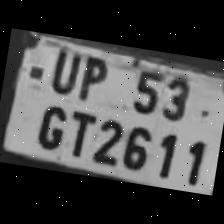1: (175, 131, 210, 188), (148, 126, 183, 180)
2: (87, 113, 124, 168)
3: (156, 68, 193, 122)
5: (126, 64, 164, 116)
6: (116, 119, 154, 174)
G: (32, 98, 70, 152)
P: (71, 50, 111, 105)
T: (61, 106, 96, 160)
U: (43, 42, 83, 96)
